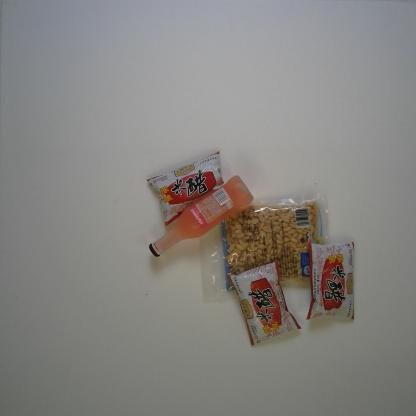Alcohol: (148, 174, 254, 258)
Dried Fruit: (200, 192, 331, 305)
Seasoner: (226, 259, 302, 347), (146, 151, 226, 227), (306, 241, 356, 321)
